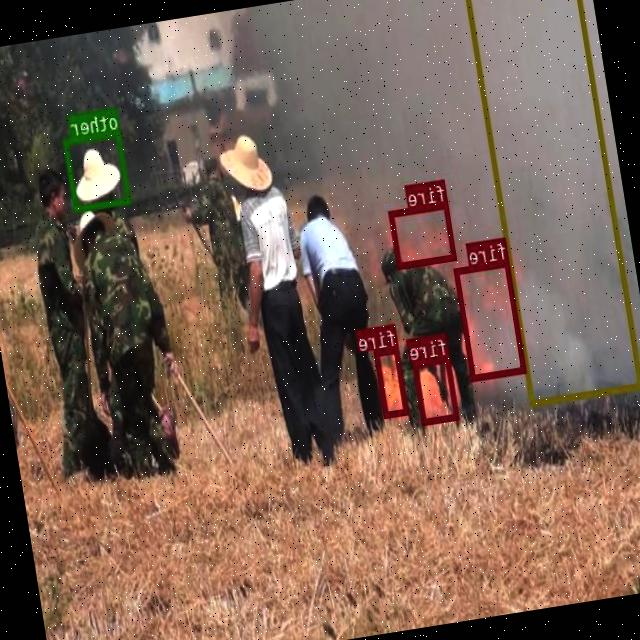fire: (455, 258, 527, 379), (390, 201, 458, 268), (413, 355, 461, 424), (374, 346, 410, 417)
smoke: (464, 0, 640, 405)
